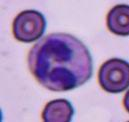N: (27, 32, 93, 90)
